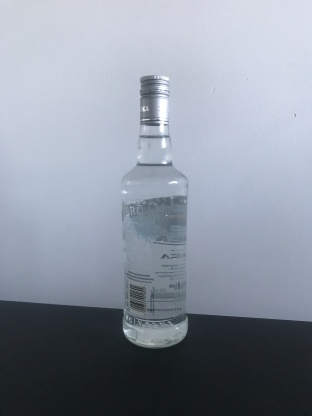nakretka: (138, 73, 171, 126)
